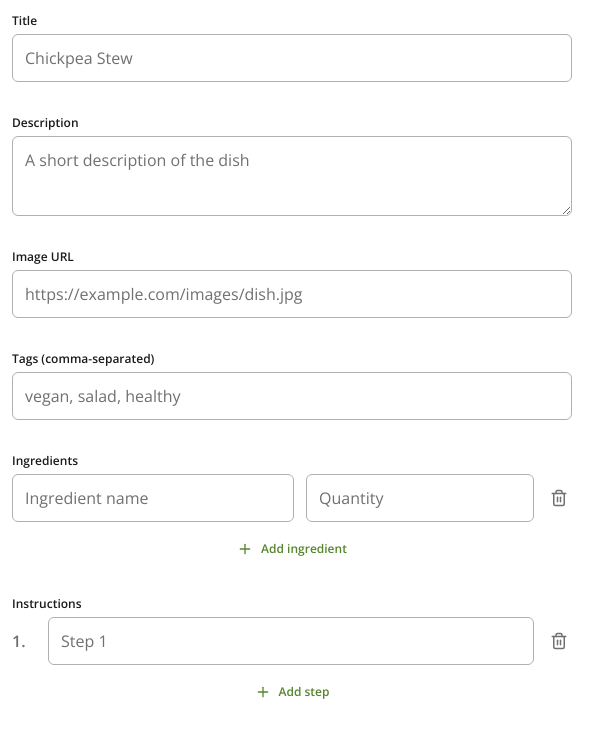
Test: RecipeForm › adds and removes ingredient rows
Click the button "Add ingredient": (292, 548) left=12, top=534, right=572, bottom=563
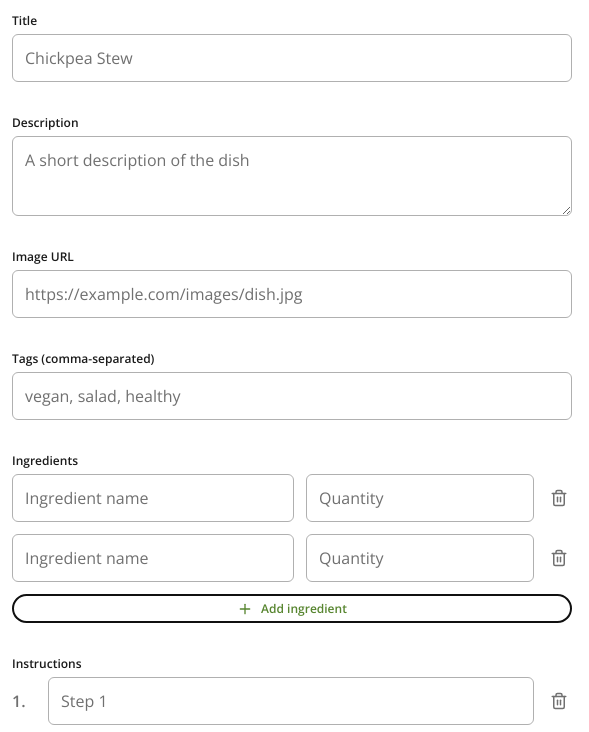
Check: the number of fields with placeholder "Ingredient name" is 2, box left=12, top=474, right=294, bottom=522; left=12, top=534, right=294, bottom=582
Click the 1st button named "Remove ingredient": (559, 498) left=546, top=485, right=572, bottom=511
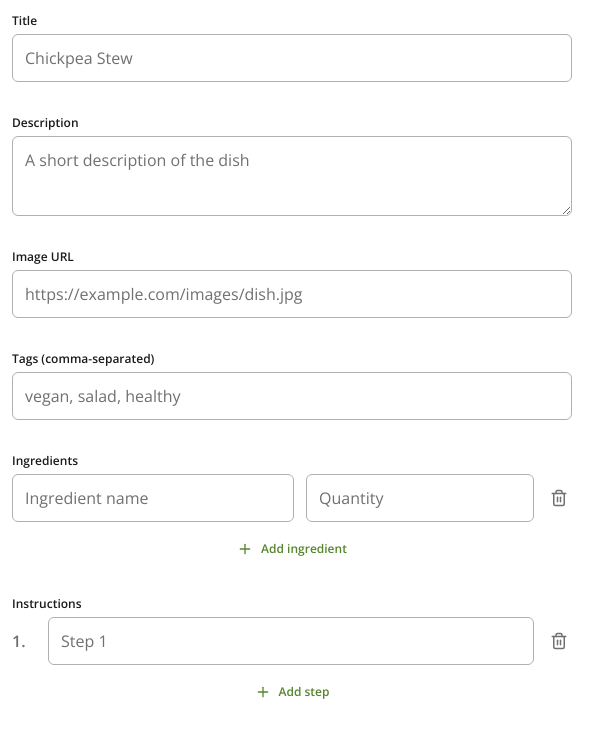
Check: the number of fields with placeholder "Ingredient name" is 1, box left=12, top=474, right=294, bottom=522
